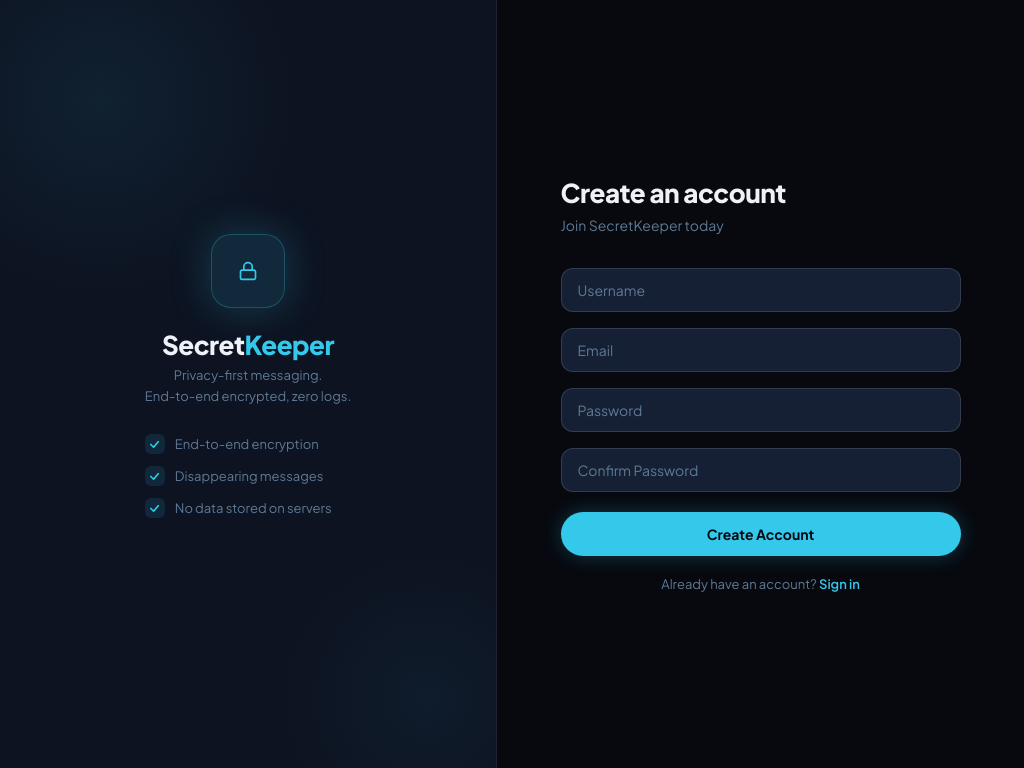
Signup password validation › rejects a password that is too short
This screenshot has width=1024, height=768.
Type "Alin_Dobra" into the field with id "username" at (761, 290), box [561,268,961,312]
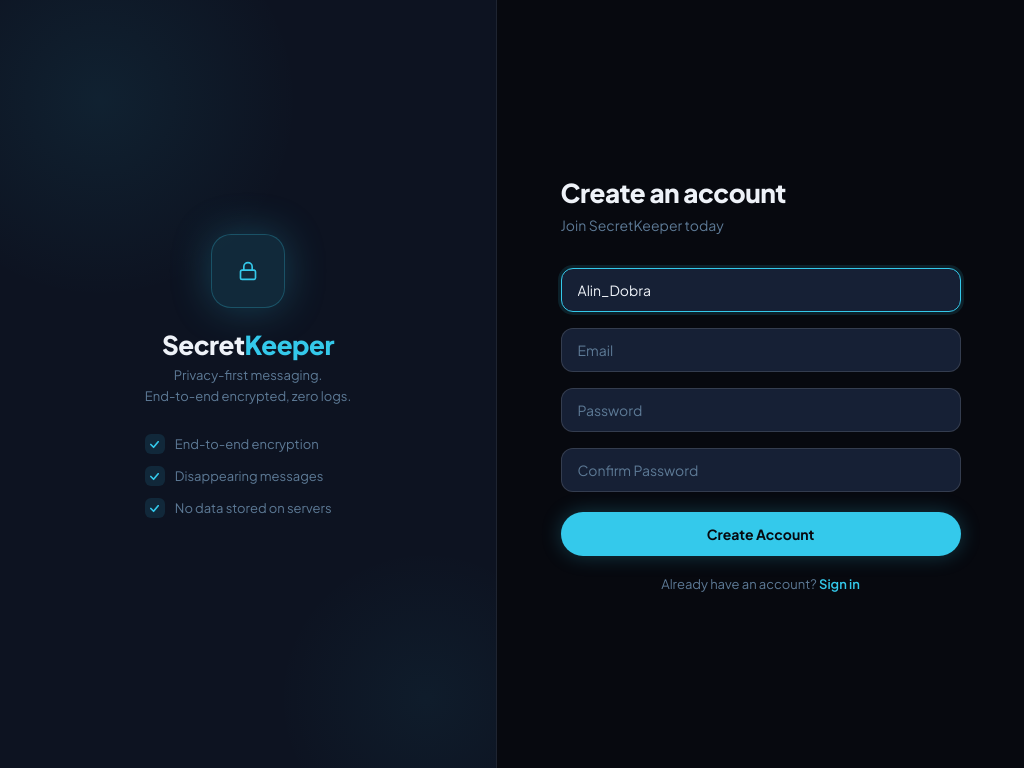
Type "alindobra@secretkeeper.com" into the field with id "email" at (761, 350), box [561,328,961,372]
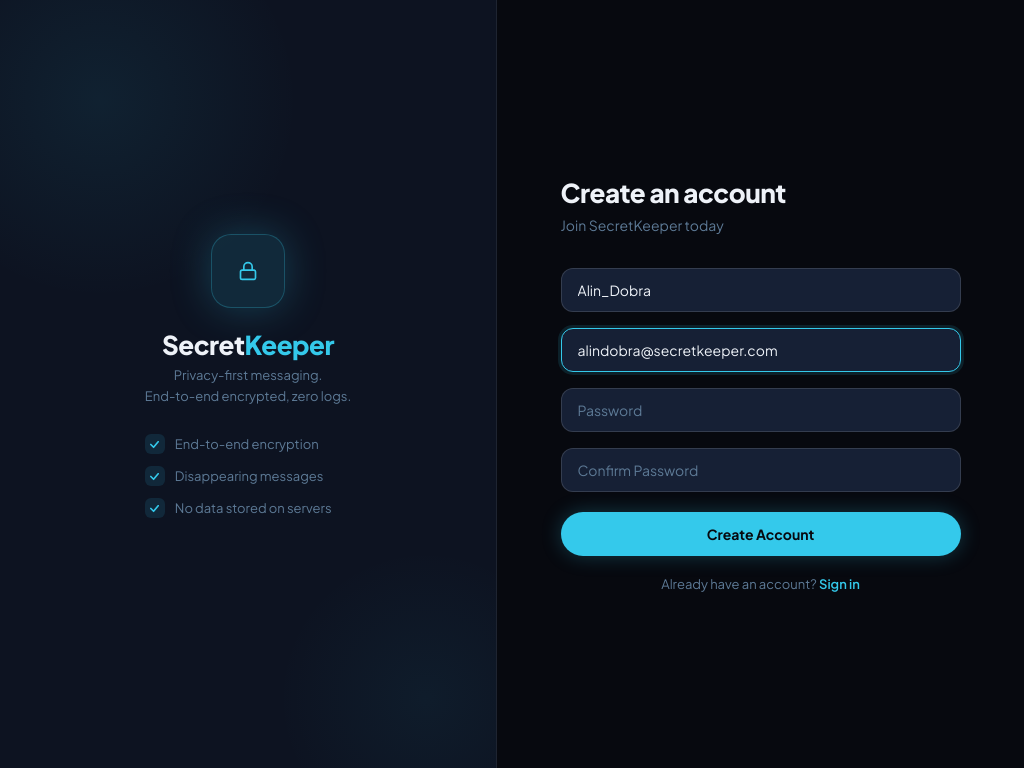
Type "pass" into the password field with placeholder "Password" at (761, 410), box [561,388,961,432]
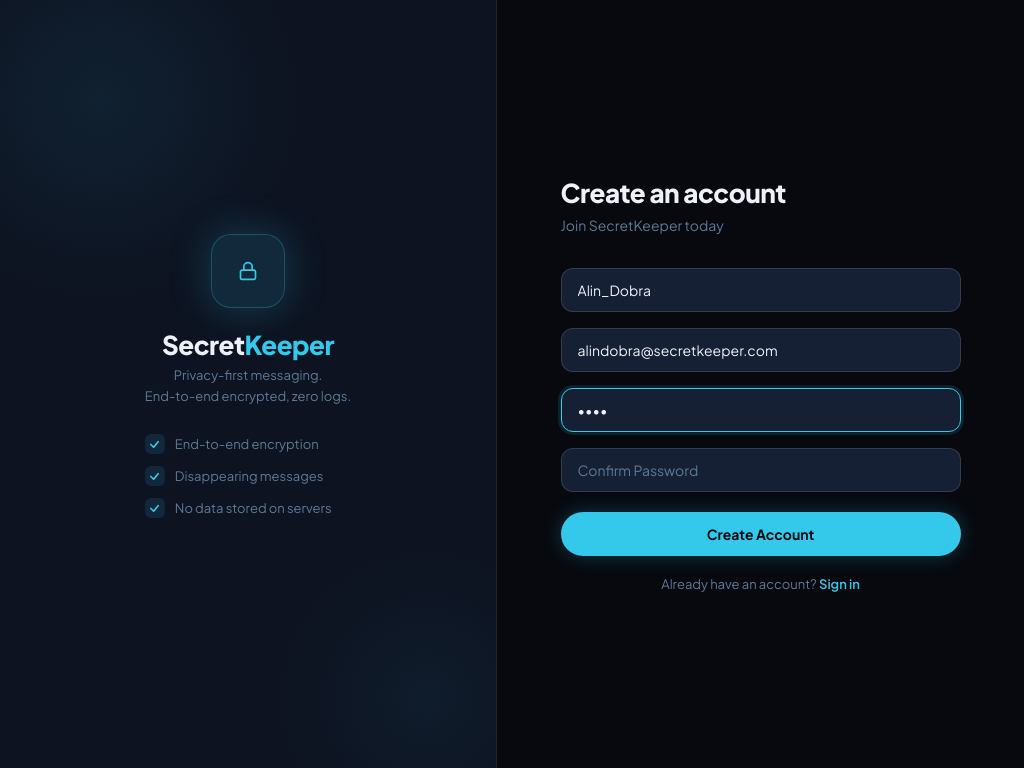
Type "pass" into the password field with id "confirmPassword" at (761, 470), box [561,448,961,492]
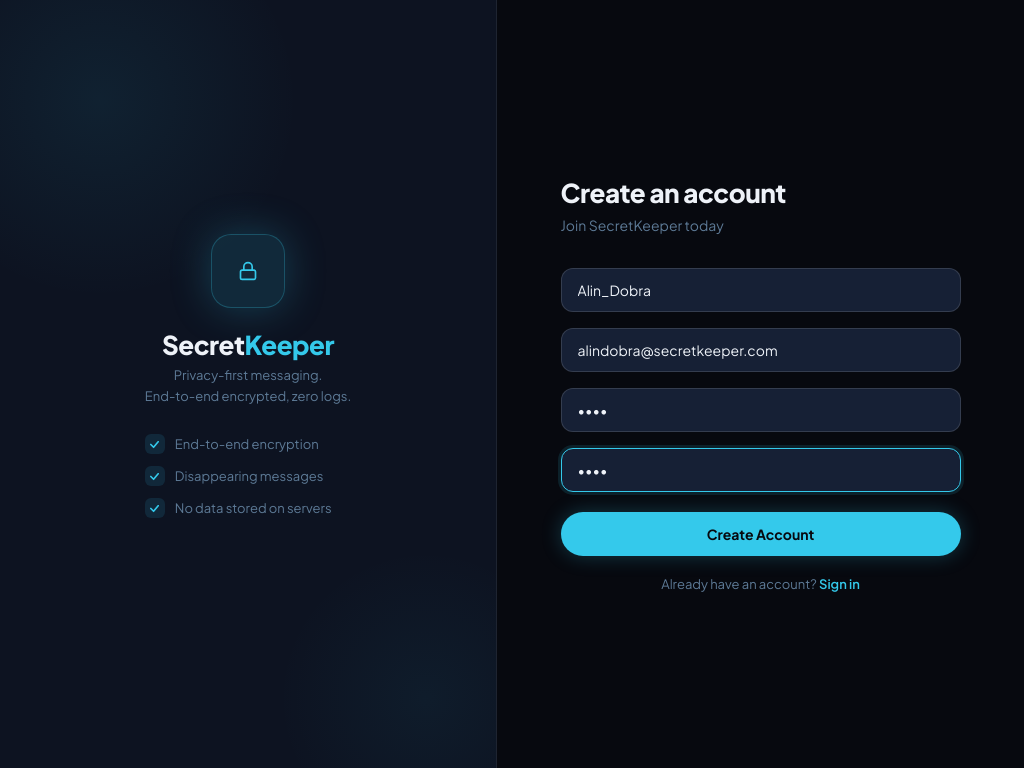
Click the button with class "signup-button" at (761, 534), box [561,512,961,556]
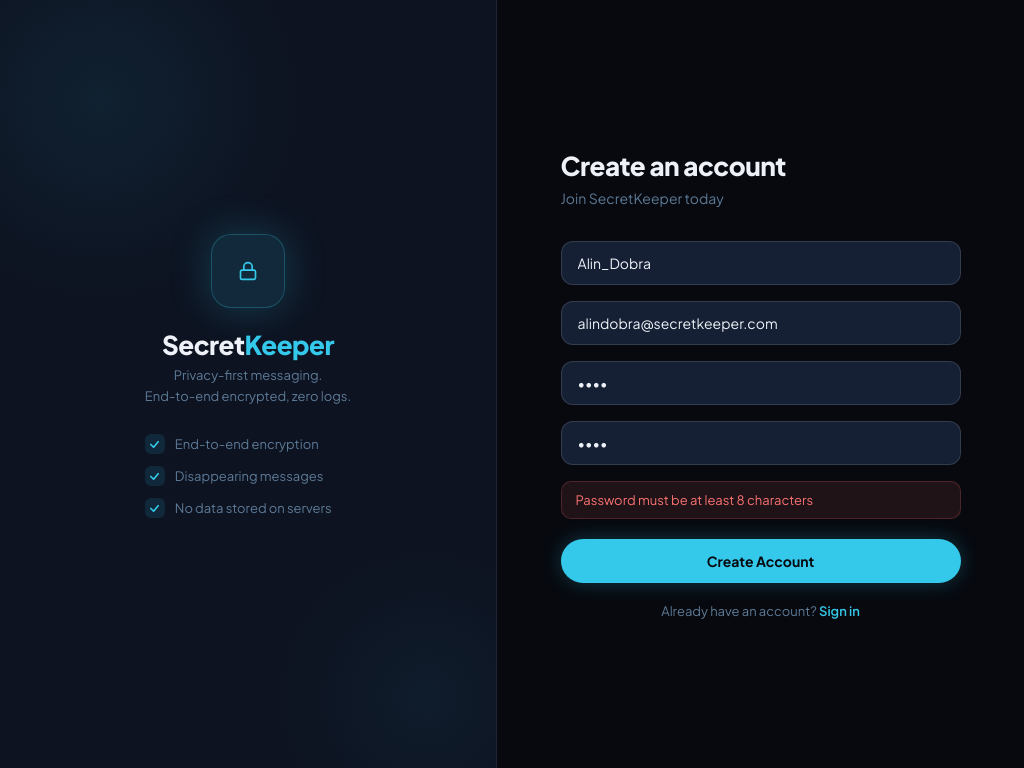
Expected: the text with class "error" reads "Password must be at least 8 characters", [576,492,814,508]
